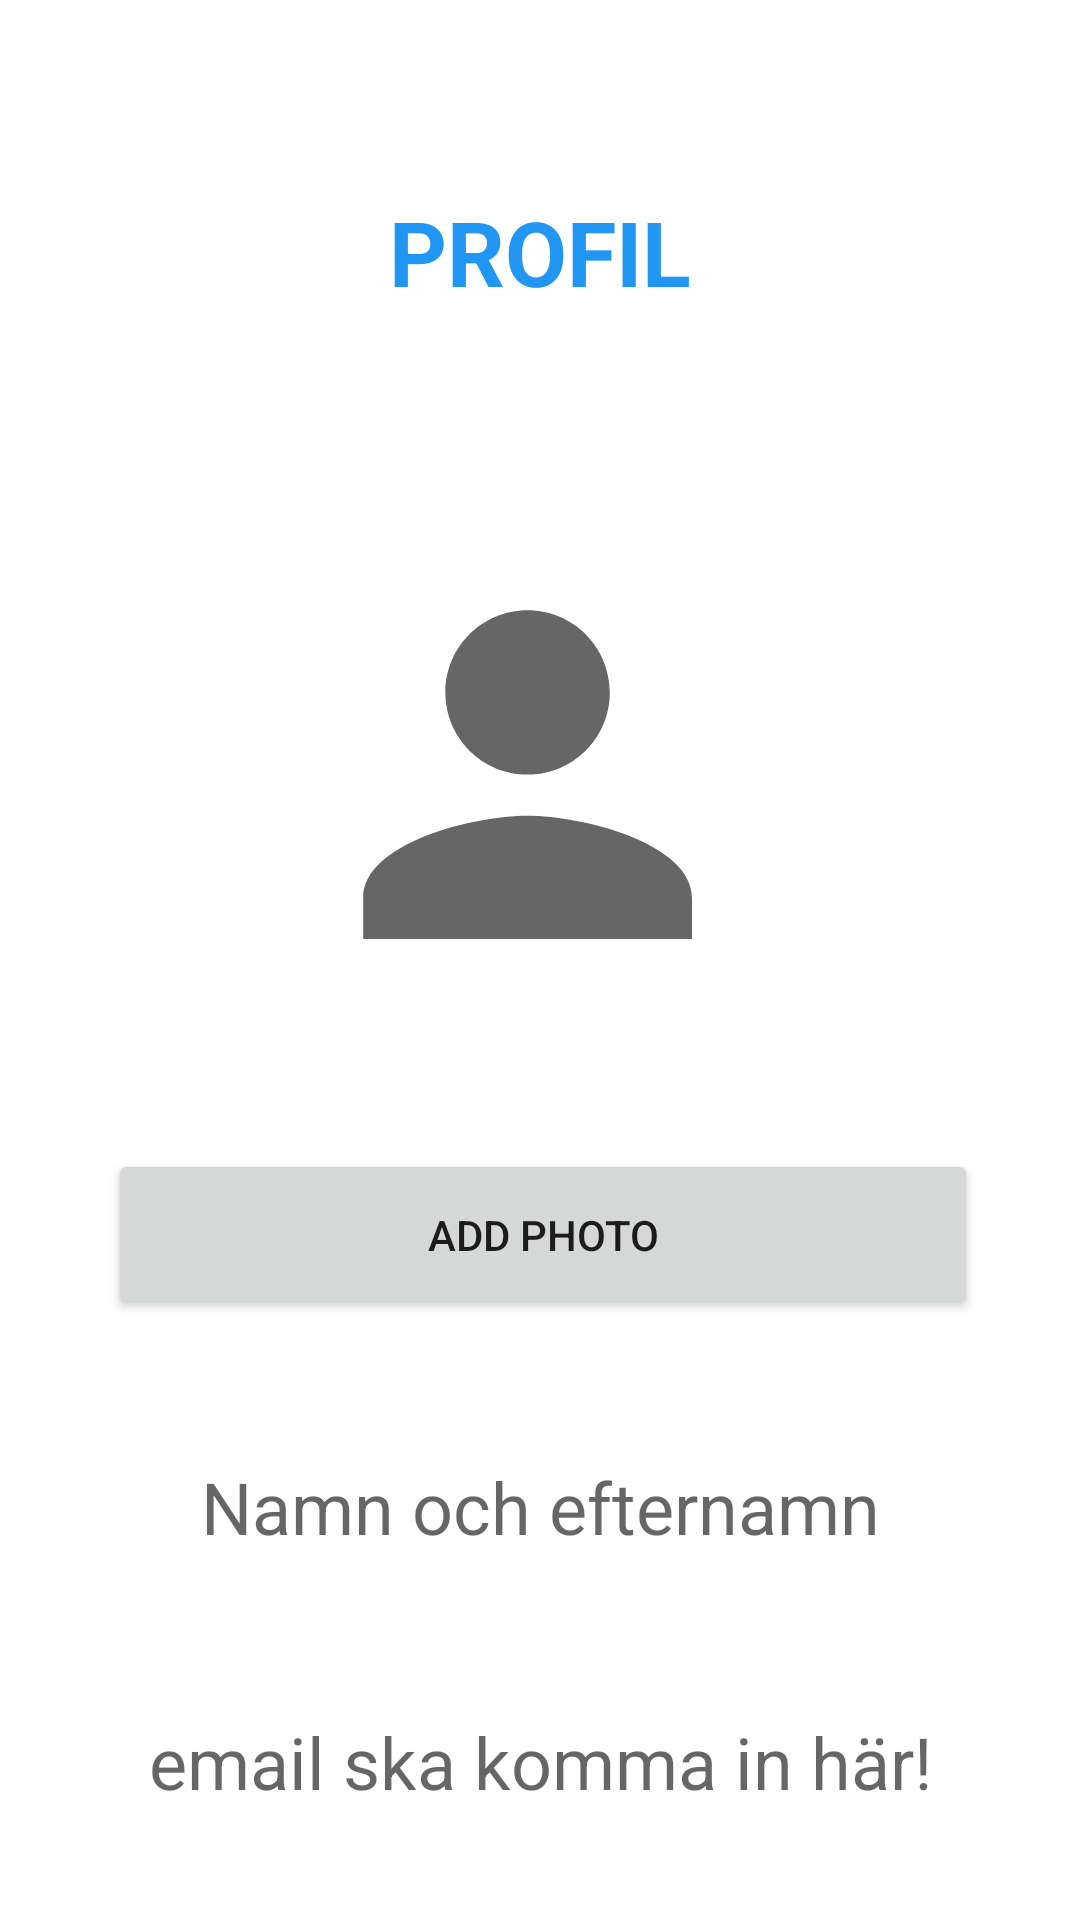

Icons on this 1080×1920 Android screen, each with the point to tap as (x=x, y=y):
person: (x=527, y=774)
